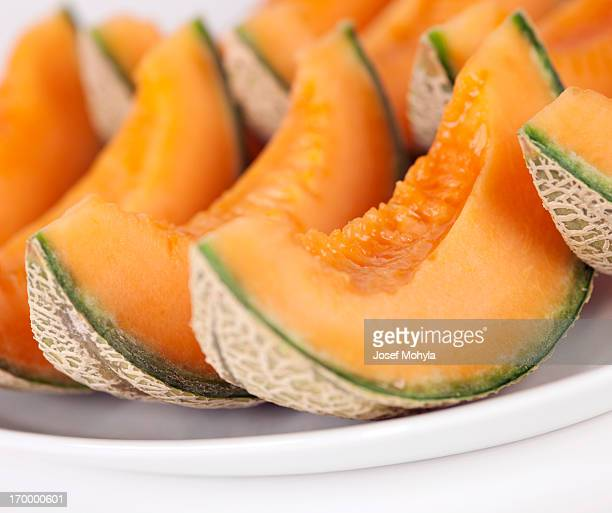Melon: (225, 26, 565, 408), (68, 32, 389, 346), (98, 53, 232, 240)
